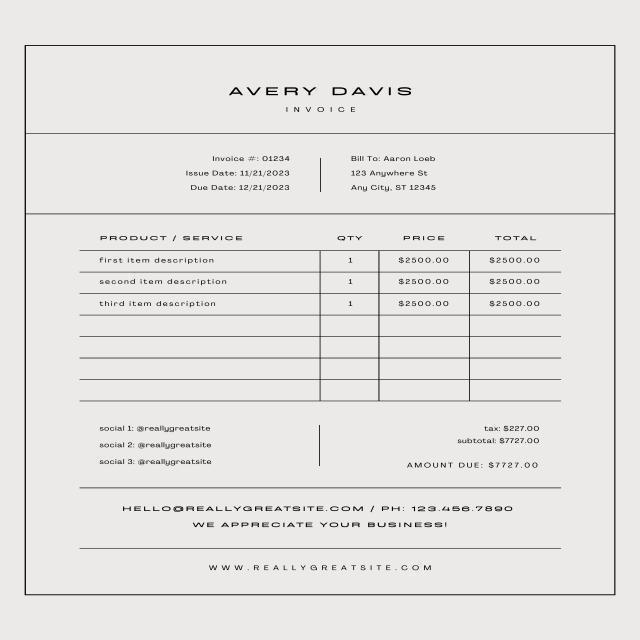paragraph: (111, 500, 516, 535), (391, 415, 548, 472), (222, 80, 420, 122), (81, 422, 233, 476), (185, 148, 298, 199), (345, 146, 443, 194), (206, 563, 436, 576)
table: (79, 228, 575, 403)
